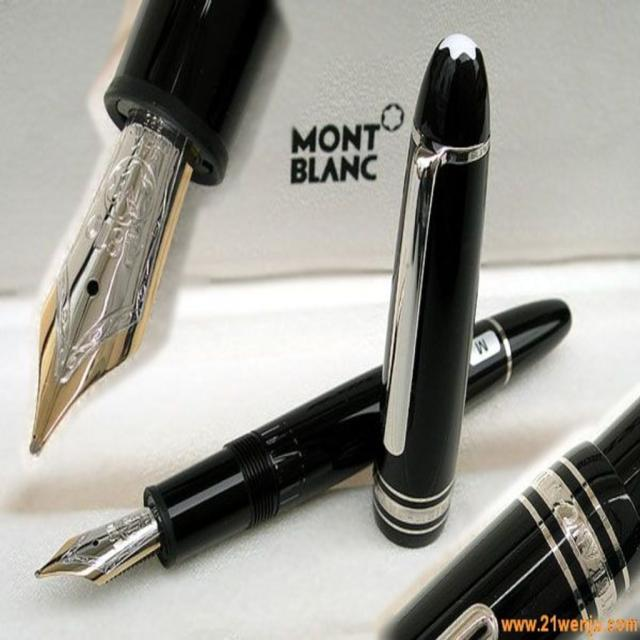pen: (34, 294, 574, 589), (30, 0, 276, 460), (373, 390, 639, 637)
